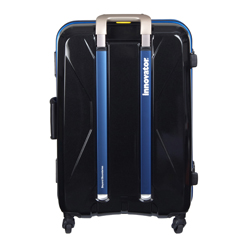luggage: (50, 13, 199, 233)
